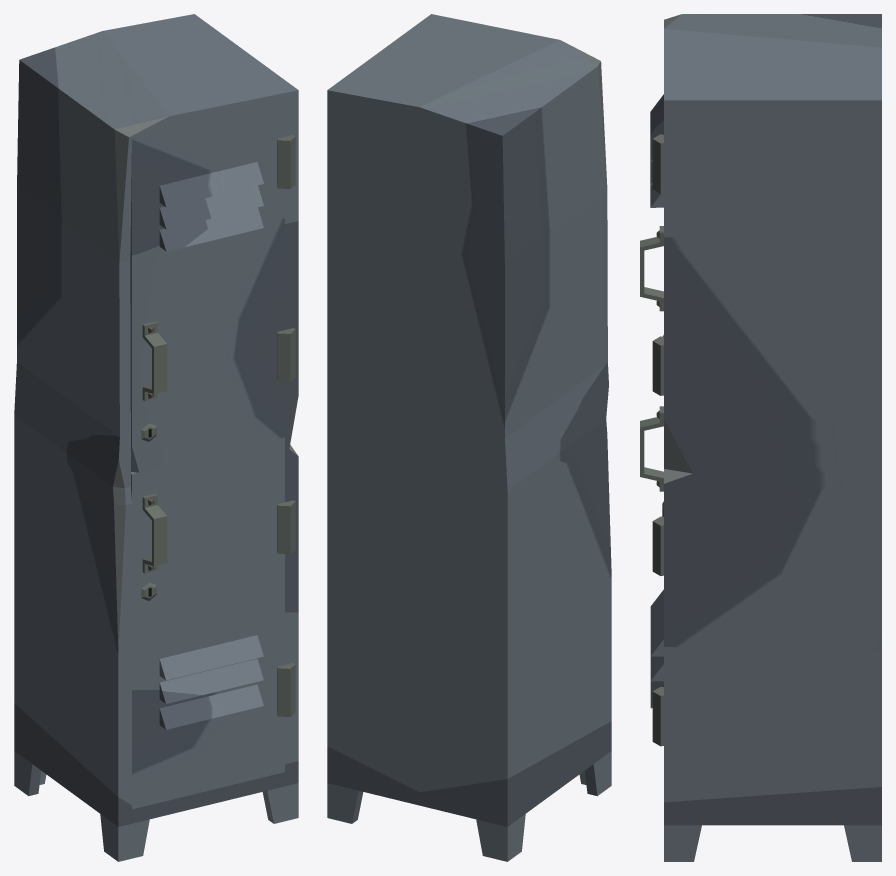
File: SM_Locker_White.fbx
The picture shows the model from 3 angles, left to right: view 1: azimuth 30°, elevation 25°; view 2: azimuth 150°, elevation 25°; view 3: azimuth 270°, elevation 25°; orthographic projection. The views are drawn at different scales.
Visible parts, largest first — view 1: SM_Locker_White, SM_Locker_Door_Up_White, SM_Locker_Door_Bot_White; view 2: SM_Locker_White; view 3: SM_Locker_White, SM_Locker_Door_Bot_White, SM_Locker_Door_Up_White.
Part boxes in pixels (box(x1,y1,x2,y2)): SM_Locker_White: box(14, 14, 298, 861); SM_Locker_Door_Up_White: box(130, 102, 295, 472); SM_Locker_Door_Bot_White: box(131, 437, 295, 809); SM_Locker_White: box(327, 14, 611, 861); SM_Locker_White: box(664, 14, 881, 861); SM_Locker_Door_Bot_White: box(640, 406, 663, 746); SM_Locker_Door_Up_White: box(640, 94, 663, 395).
Size of the model in its own units: 54.05 by 210 by 60.01.
